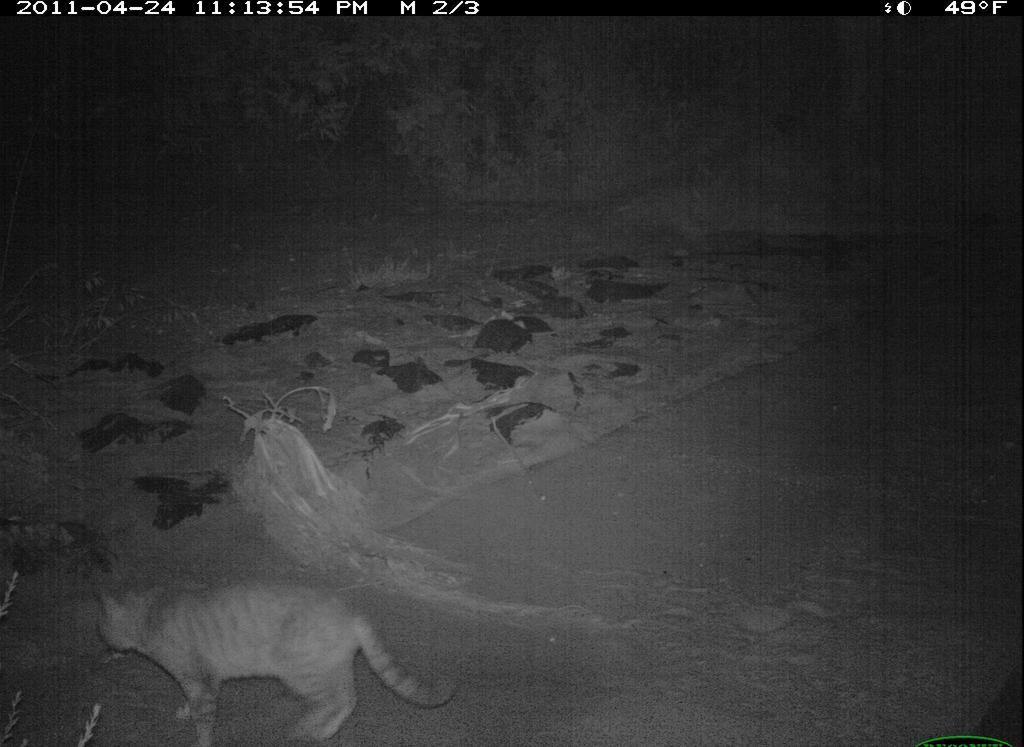cat: (89, 578, 461, 747)
